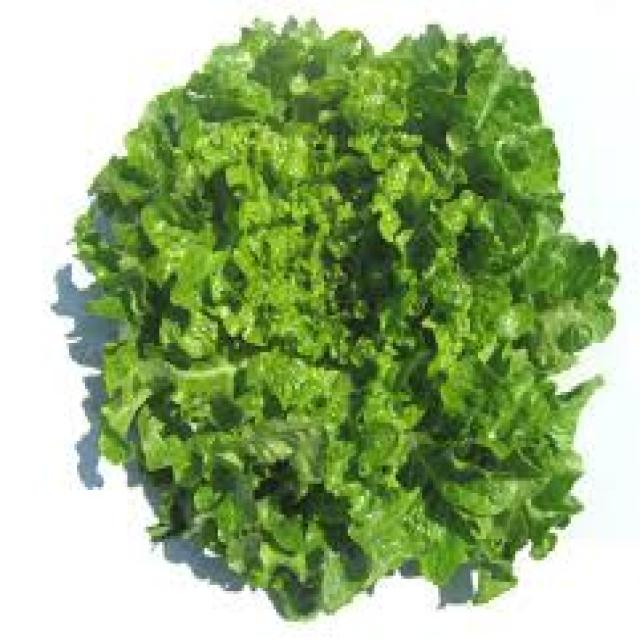Lettuce: (55, 13, 625, 628)
